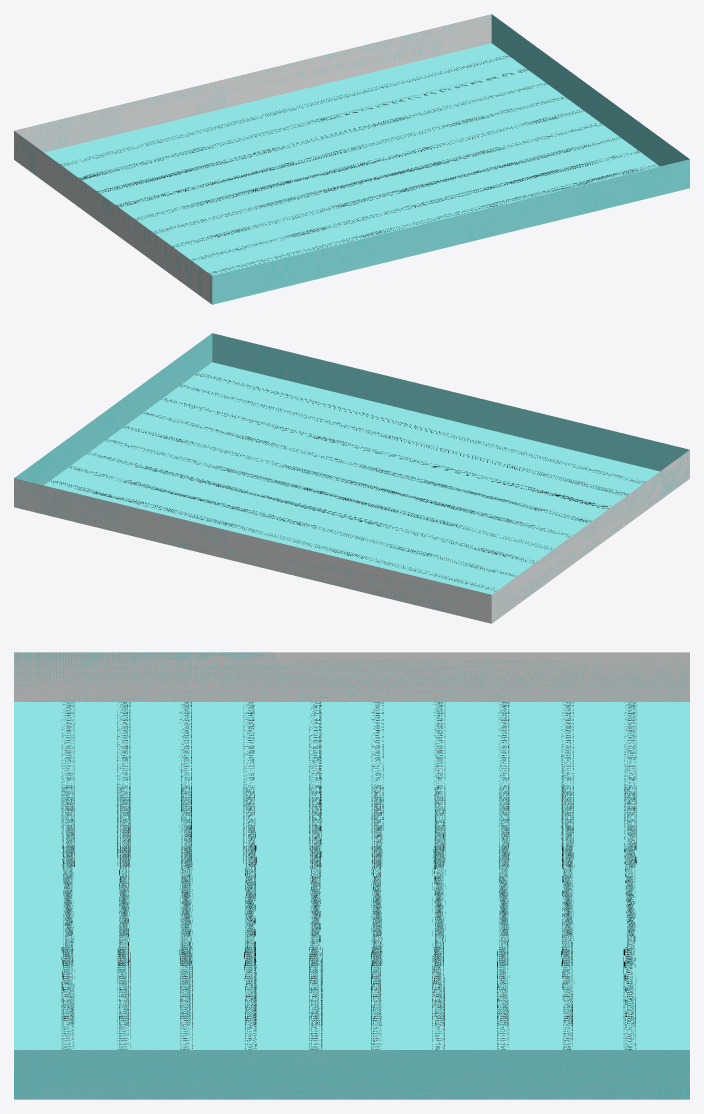
Rendered from Sea_Pool.dae.
3 renders of one model, top to bottom at view 1: azimuth 30°, elevation 25°; view 2: azimuth 150°, elevation 25°; view 3: azimuth 270°, elevation 25°, orthographic. The views are drawn at different scales.
Visible parts, largest first — view 1: group_0 (×21); view 2: group_0 (×21); view 3: group_0 (×23).
Boxes of the visible parts, x1,y1,x2,y2 form: group_0 (×21): (14,14,689,304); group_0 (×21): (14,333,689,623); group_0 (×23): (14,652,689,1099).
Bounding box in the file's own units: 1376 × 989 × 80.02.
